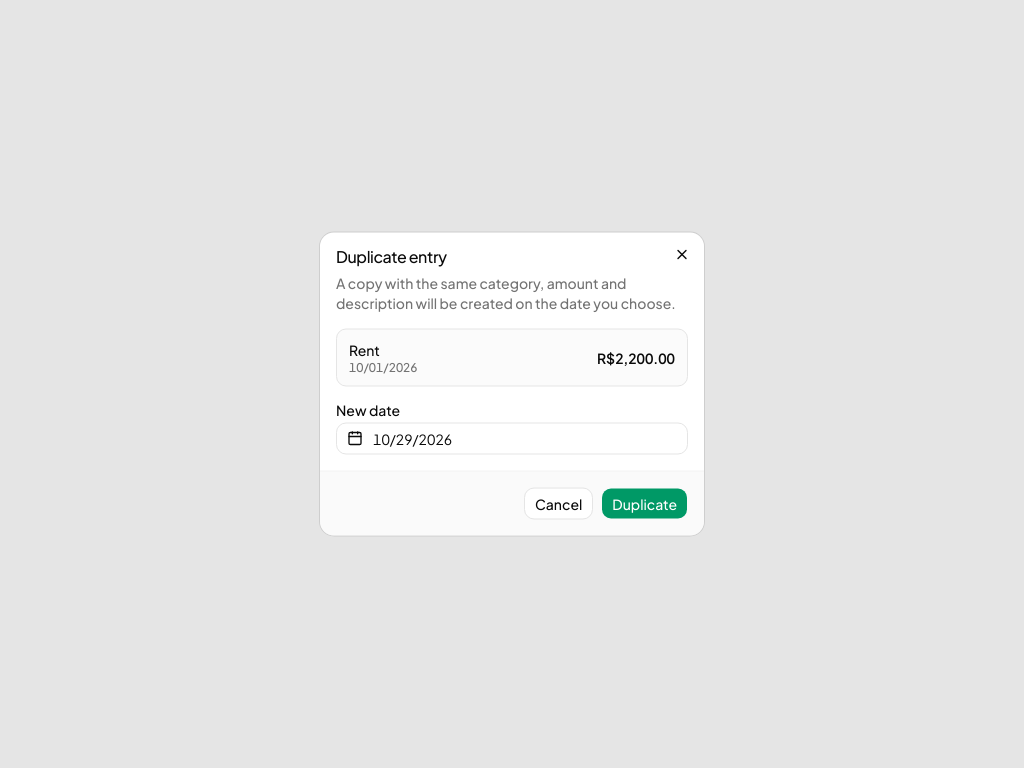
Test case: DuplicateEntryDialog (UC-11) › explains when the category was archived since (BR-06)
Click the button "Duplicate". click: {"x": 645, "y": 504}
box: [601,488,688,520]
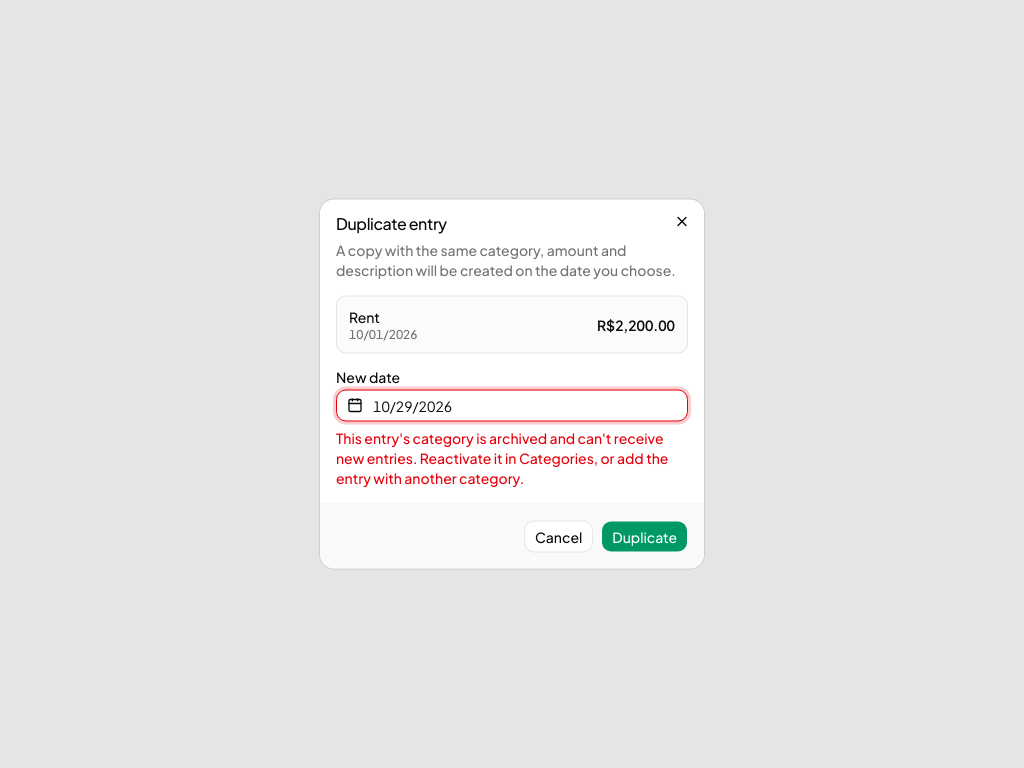
Result: the text "category is archived and can.t receive new entries" is shown at [336,428,668,486]
